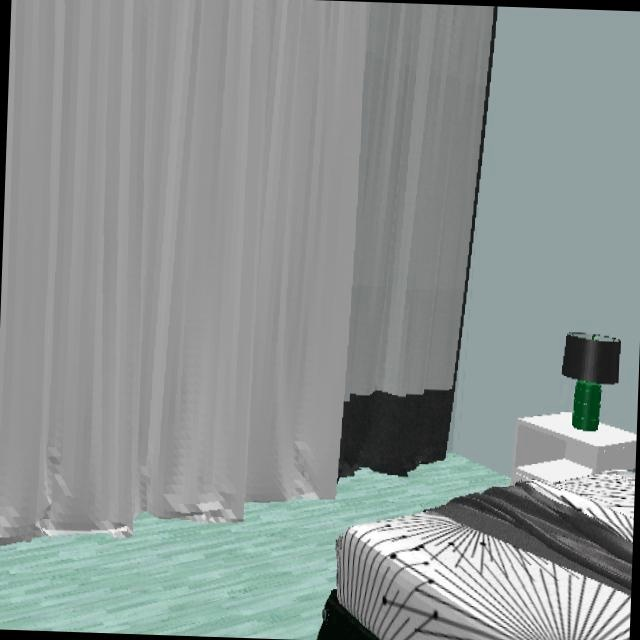bed: (316, 468, 635, 640)
lamp: (561, 333, 620, 432)
nighttable: (514, 413, 635, 474)
